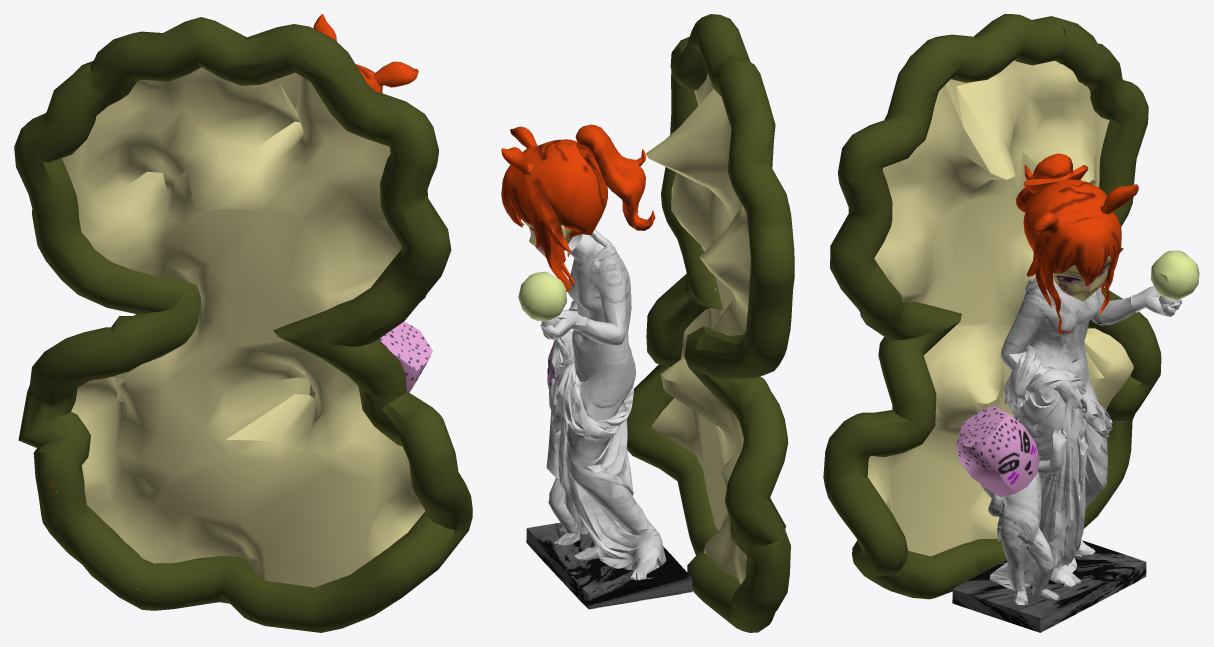
File: venus.gltf
The picture shows the model from 3 angles, left to right: view 1: azimuth 30°, elevation 25°; view 2: azimuth 150°, elevation 25°; view 3: azimuth 270°, elevation 25°; orthographic projection. The views are drawn at different scales.
Visible parts, largest first — view 1: Plane; view 2: Plane; view 3: Plane.
Part boxes in pixels (left/top/right/bottom): Plane: left=14, top=14, right=472, bottom=632; Plane: left=501, top=14, right=794, bottom=632; Plane: left=823, top=14, right=1199, bottom=632.
Bounding box in the file's own units: 0.6182 × 1 × 0.6176.
Materials: 1 (1 with a texture image).
